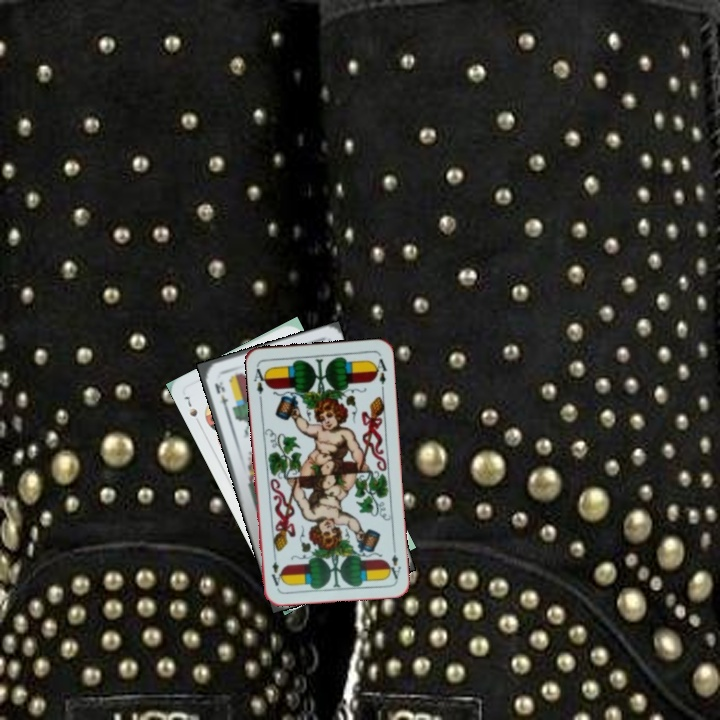EA: (384, 541, 403, 582), (250, 362, 270, 397)
EK: (211, 378, 230, 413)
S7: (181, 390, 200, 420)
